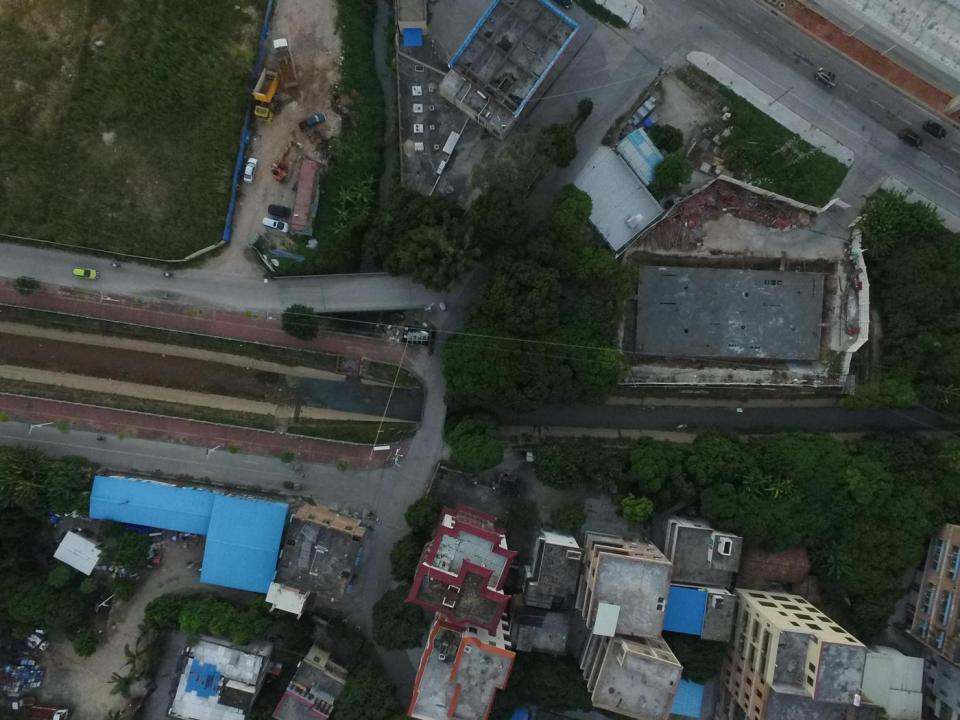car: (814, 66, 839, 88), (900, 127, 925, 149), (923, 119, 948, 140), (262, 216, 290, 233), (243, 158, 257, 184), (72, 267, 99, 280), (268, 204, 292, 217)
truck: (252, 67, 280, 125), (272, 38, 300, 88), (298, 112, 326, 131)
